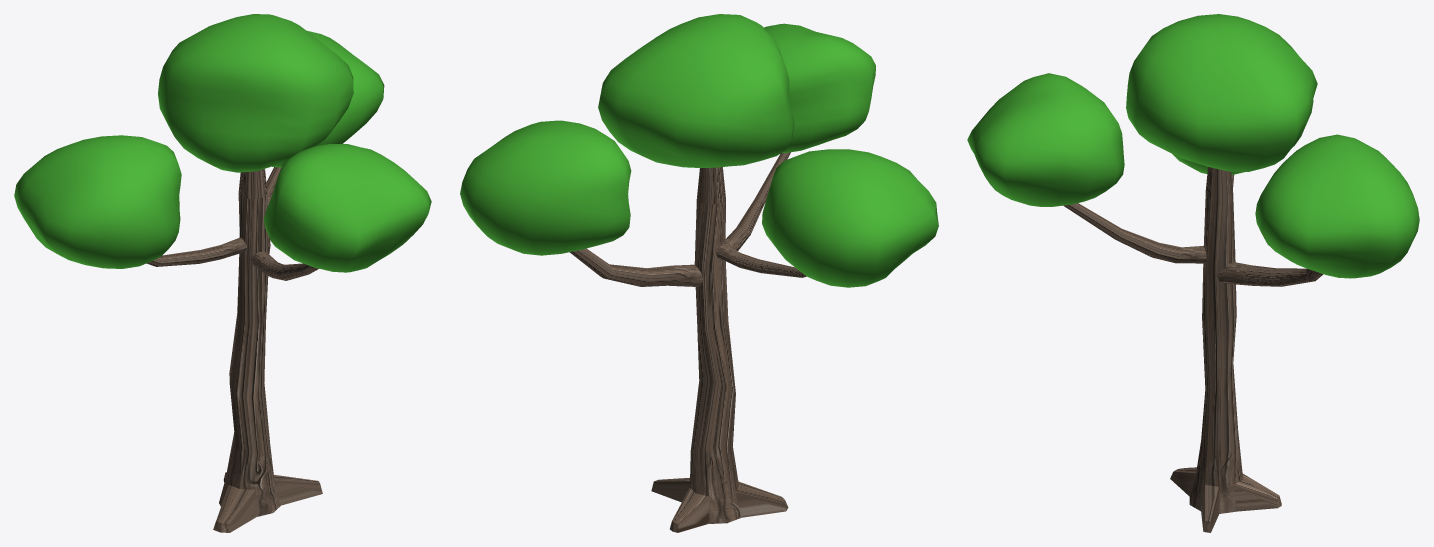
Rendered from golf_tree_1.glb.
3 renders of one model, left to right at view 1: azimuth 30°, elevation 25°; view 2: azimuth 150°, elevation 25°; view 3: azimuth 270°, elevation 25°, orthographic.
Parts seen in each view (by area): view 1: leaves_dark1, tree_body_dark1; view 2: leaves_dark1, tree_body_dark1; view 3: leaves_dark1, tree_body_dark1.
Part boxes in pixels (x1,y1,x2,y2): leaves_dark1: (14,14,431,272); tree_body_dark1: (146,167,322,532); leaves_dark1: (460,14,938,287); tree_body_dark1: (570,152,806,532); leaves_dark1: (967,14,1419,278); tree_body_dark1: (1063,167,1323,532).
Bounding box in the file's own units: 3.82 × 4.44 × 3.82.
Materials: 2 (1 with a texture image).
